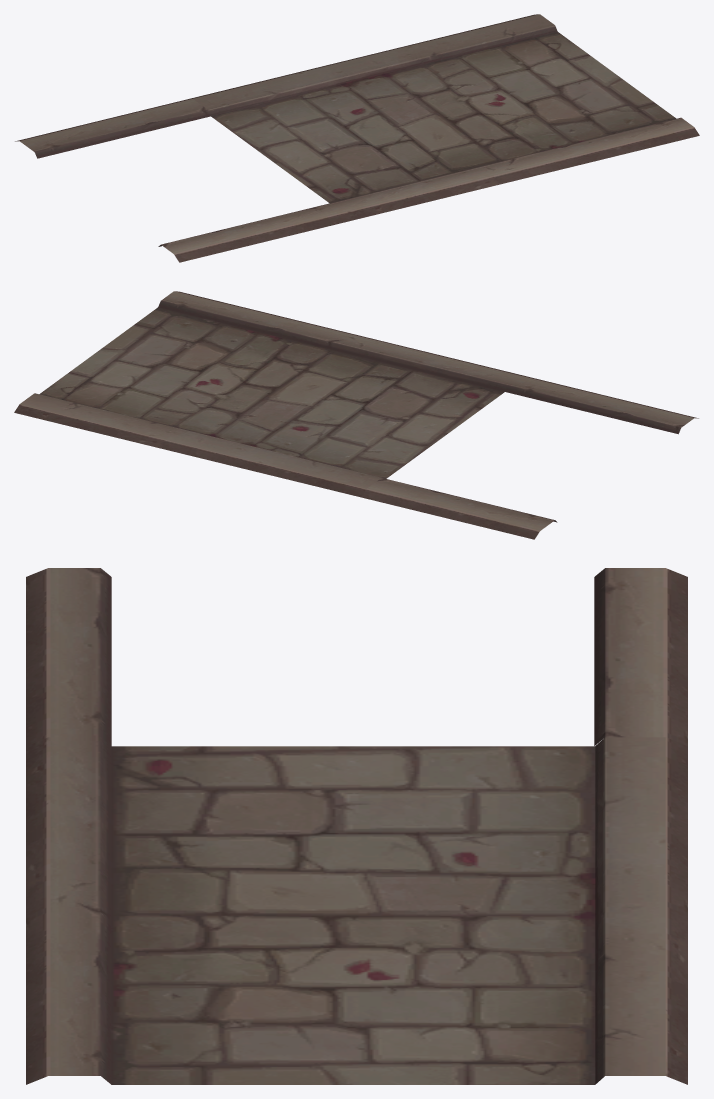
The model's file is shibanlu.FBX.
3 renders of one model, top to bottom at view 1: azimuth 30°, elevation 25°; view 2: azimuth 150°, elevation 25°; view 3: azimuth 270°, elevation 25°, orthographic. The views are drawn at different scales.
Parts seen in each view (by area): view 1: shibanlu; view 2: shibanlu; view 3: shibanlu.
Boxes of the visible parts, x1,y1,x2,y2 form: shibanlu: (15, 14, 699, 262); shibanlu: (14, 291, 698, 539); shibanlu: (26, 568, 687, 1084).
Size of the model in its own units: 1896 by 15.55 by 1044.
